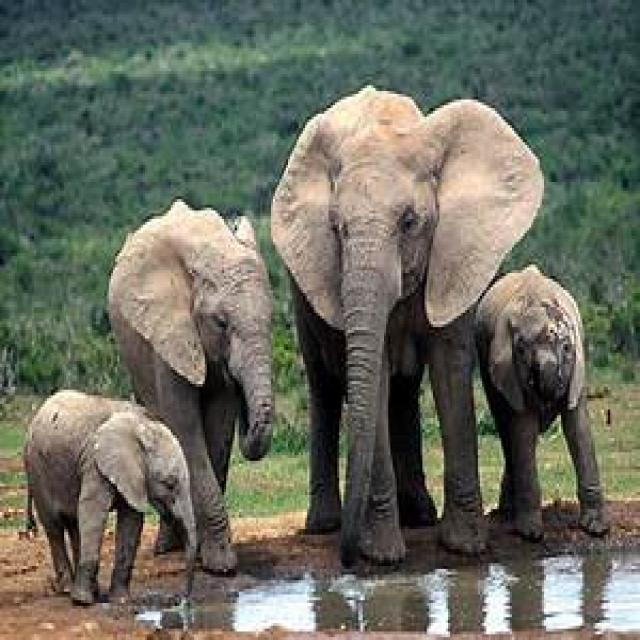elephant: (269, 88, 546, 572), (107, 199, 275, 580), (21, 390, 196, 609), (474, 267, 608, 543)
